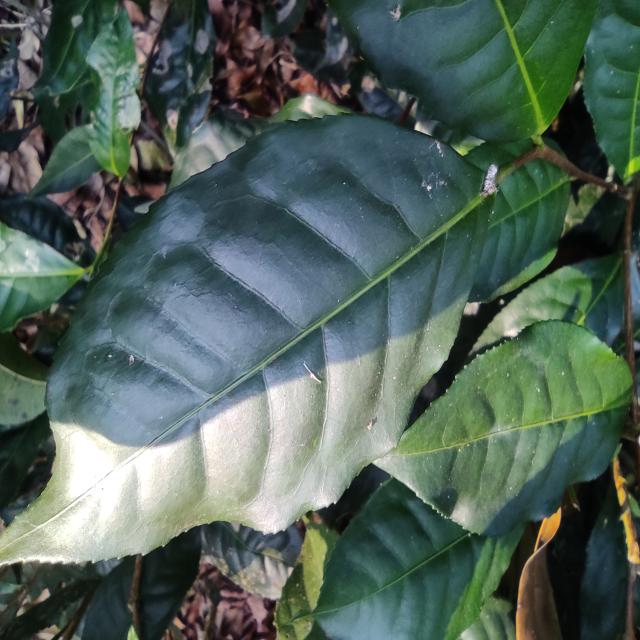Category D(7+ days, Not for Tea): (19, 89, 523, 587)
